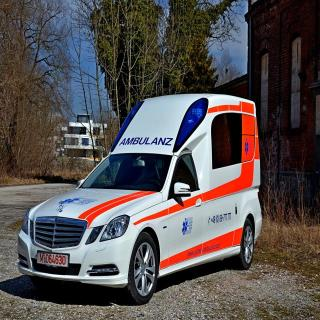Ambulance: (13, 81, 272, 310)
